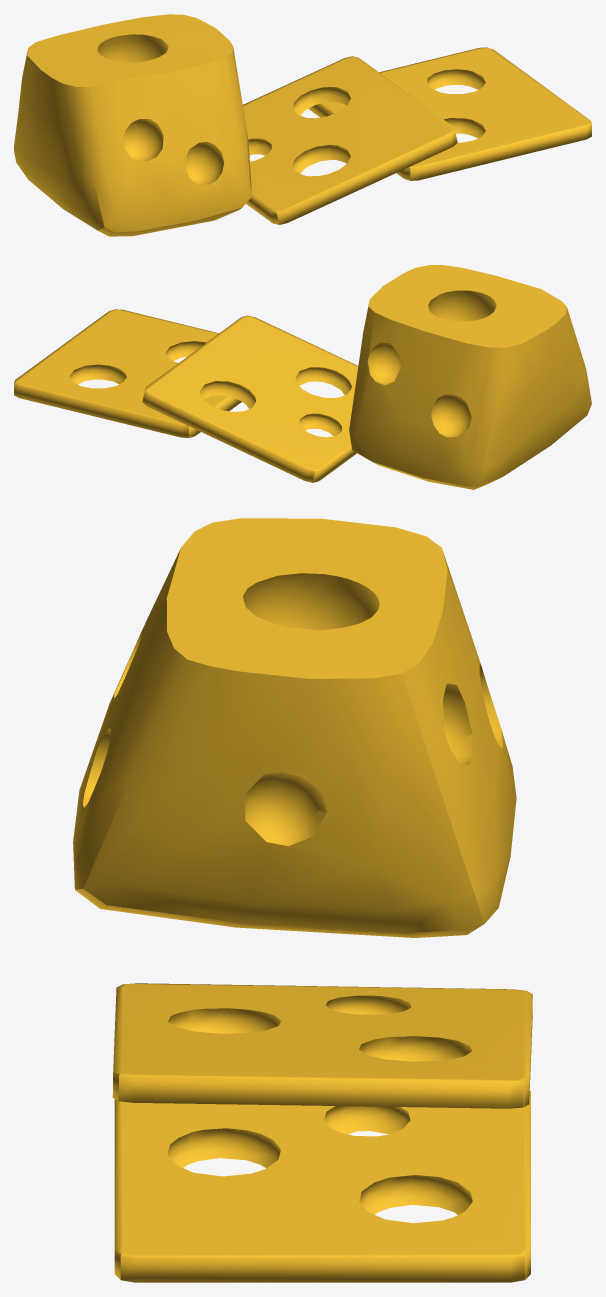
File: ser-pokrojony.gltf
3 views of the same model, one above another, from view 1: azimuth 30°, elevation 25°; view 2: azimuth 150°, elevation 25°; view 3: azimuth 270°, elevation 25° (orthographic). The views are drawn at different scales.
Visible parts, largest first — view 1: Plane, Cube.001, Cube; view 2: Plane, Cube.001, Cube; view 3: Plane, Cube, Cube.001.
Boxes of the visible parts, box(x1,y1,x2,y2) form: Plane: box(14, 14, 251, 236); Cube.001: box(243, 56, 457, 224); Cube: box(308, 47, 591, 180); Plane: box(349, 265, 591, 489); Cube.001: box(142, 315, 358, 482); Cube: box(14, 309, 241, 437); Plane: box(73, 518, 516, 937); Cube: box(114, 1090, 530, 1282); Cube.001: box(112, 983, 532, 1108).
Size of the model in its own units: 0.267 by 0.0869 by 0.1092.
Materials: 2 (2 with a texture image).
